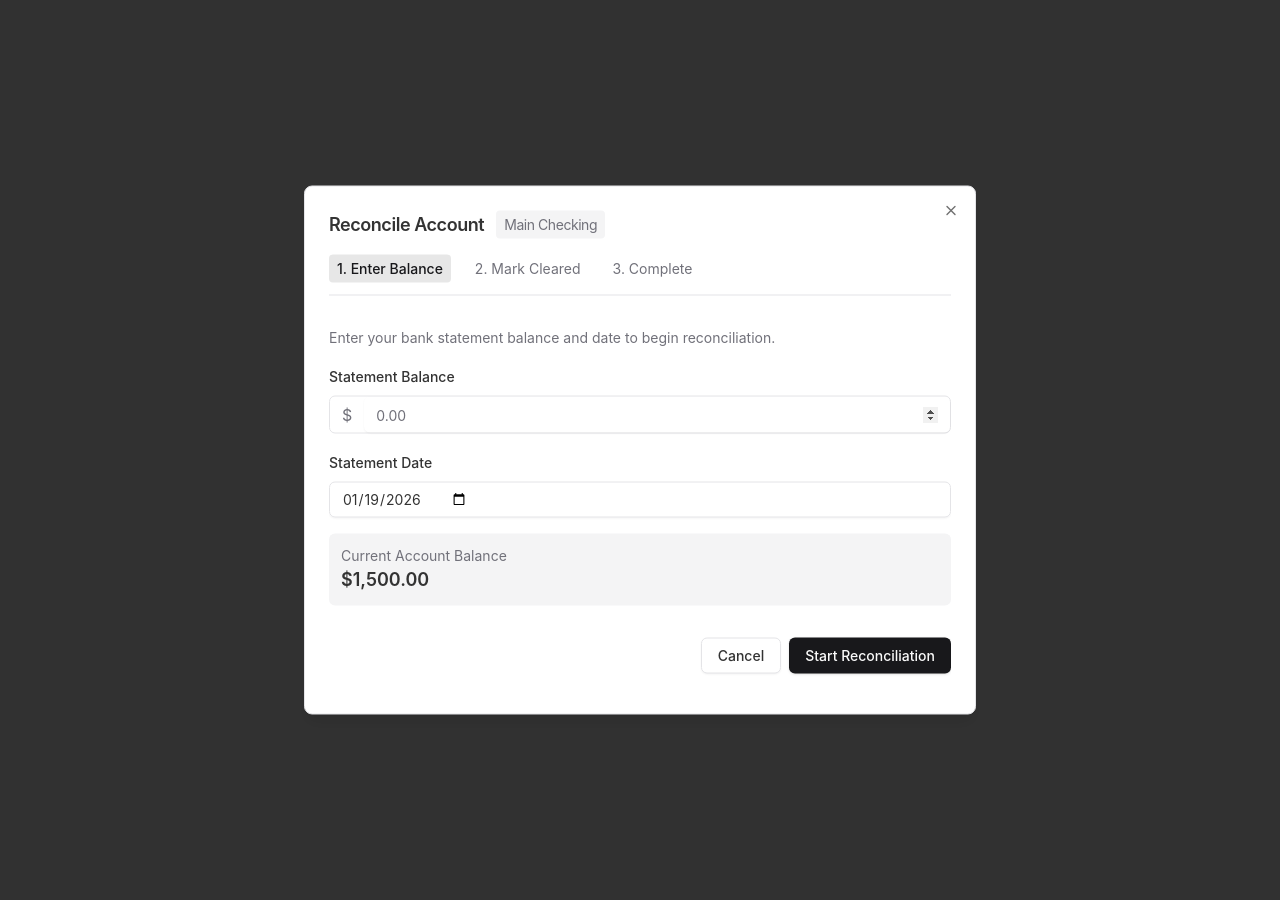
Test: ReconcileModal › Step 1 - Statement Entry › should start reconciliation and proceed to step 2
The image size is (1280, 900).
Type "1500.00" into the number field labelled "Statement Balance". click: [657, 414]
box: [364,396,950,432]
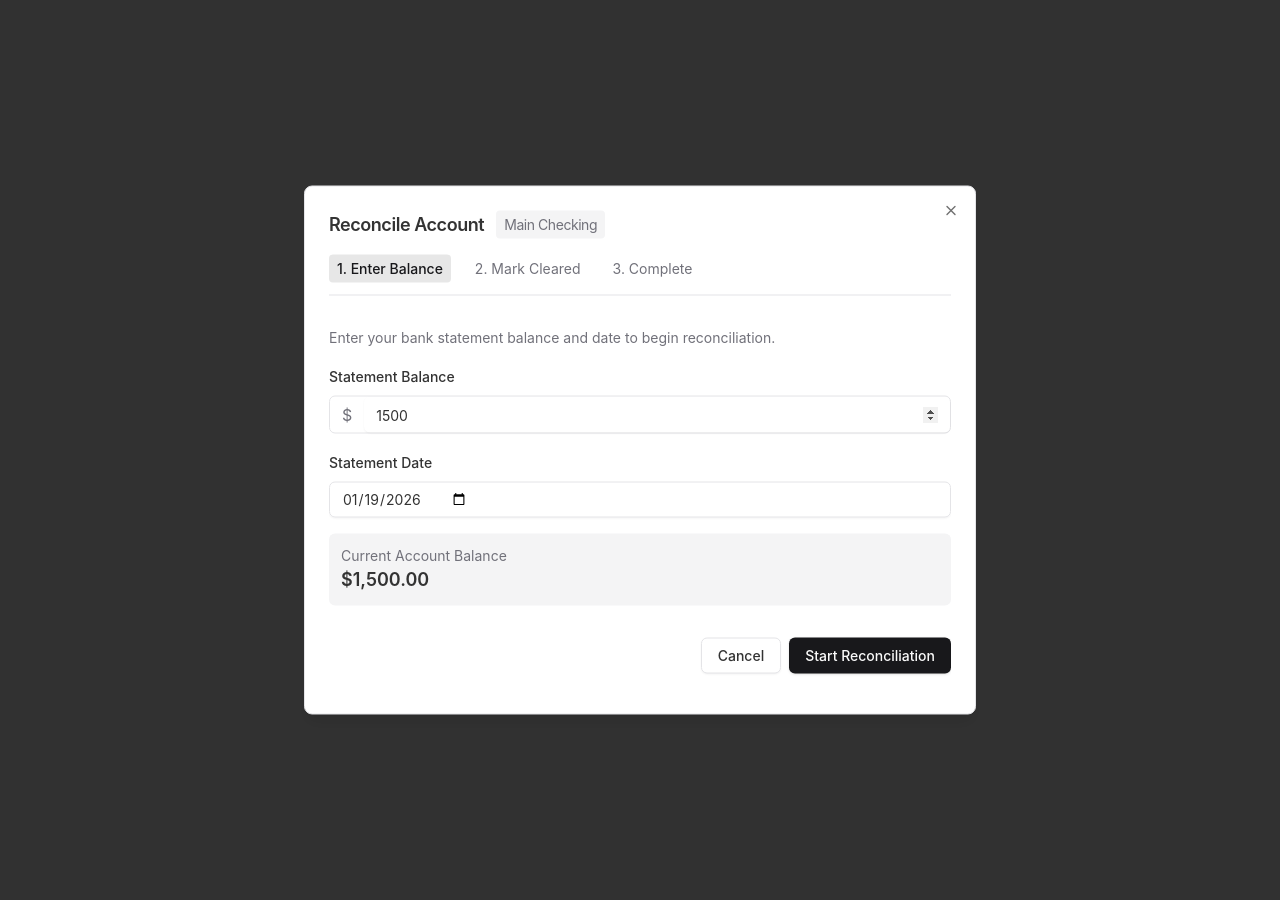
Click the button "Start Reconciliation". click: [870, 656]
box: [789,638,951,674]
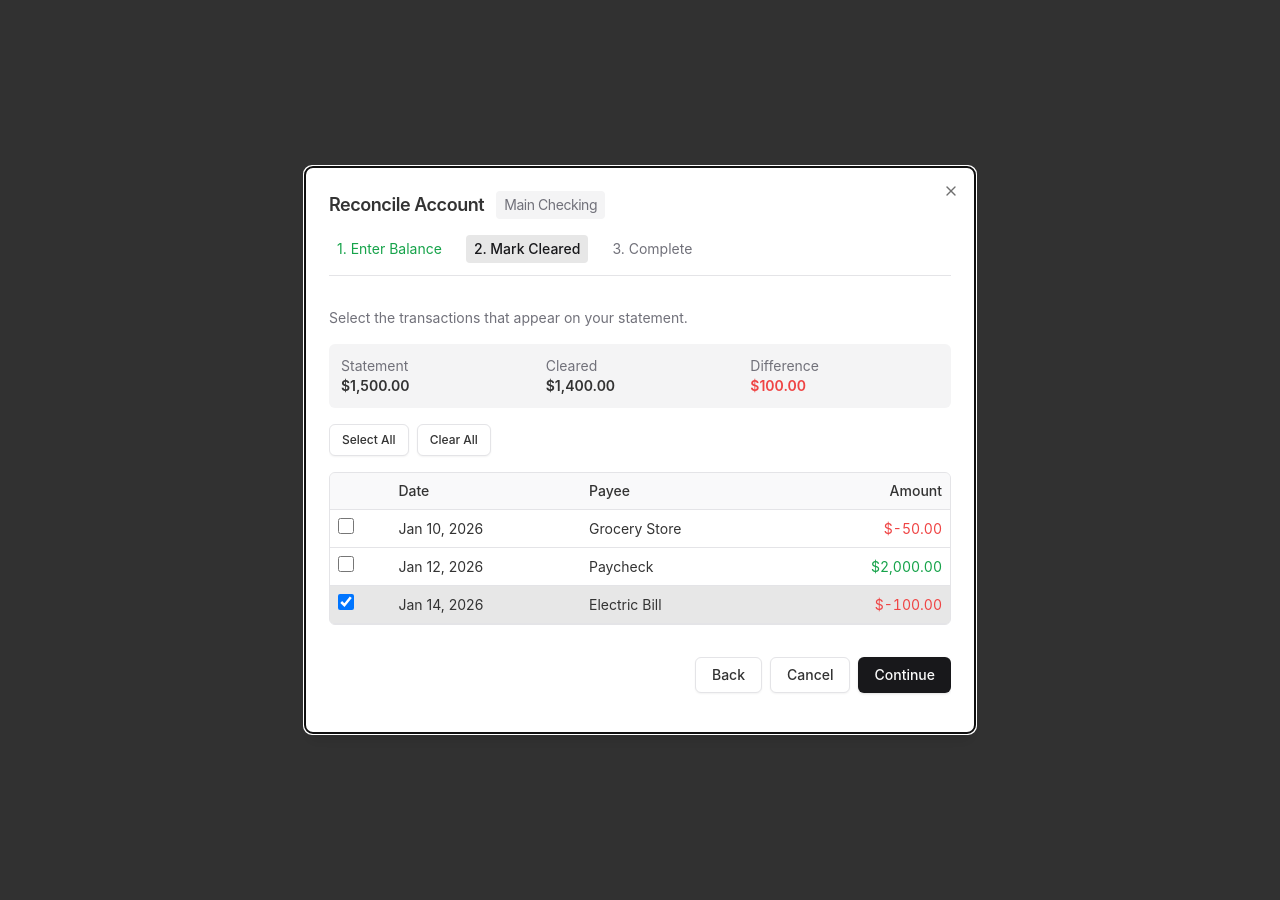
Result: the text "Grocery Store" is shown at [581,510,786,548]
